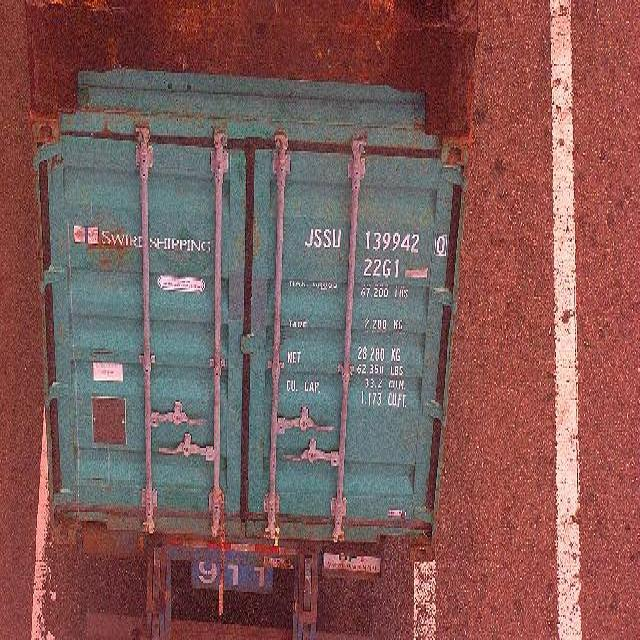ISO: (362, 258, 398, 280)
container_number: (308, 230, 451, 254)
